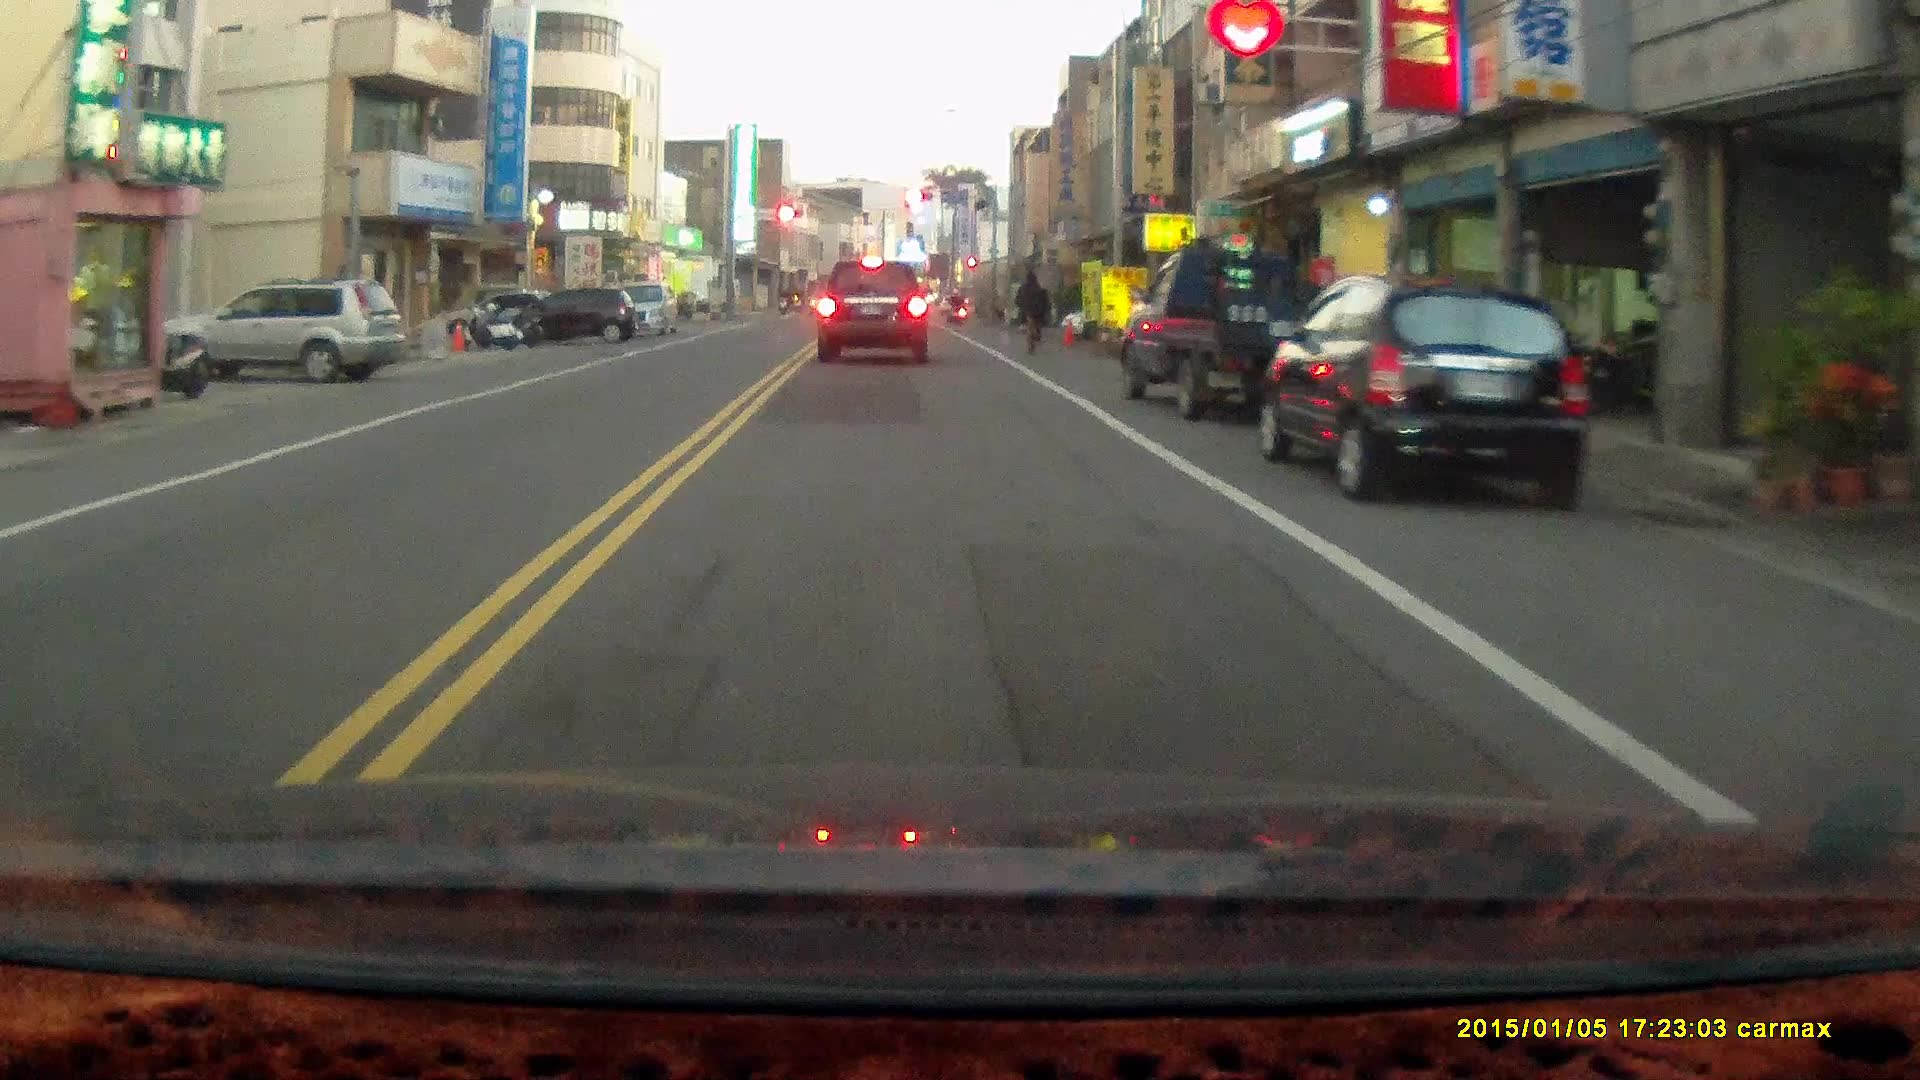rider: (1011, 266, 1050, 355)
vehicle: (1260, 271, 1593, 506), (1117, 243, 1336, 416), (161, 277, 408, 383), (816, 256, 931, 365), (510, 284, 643, 344), (595, 278, 679, 340)
